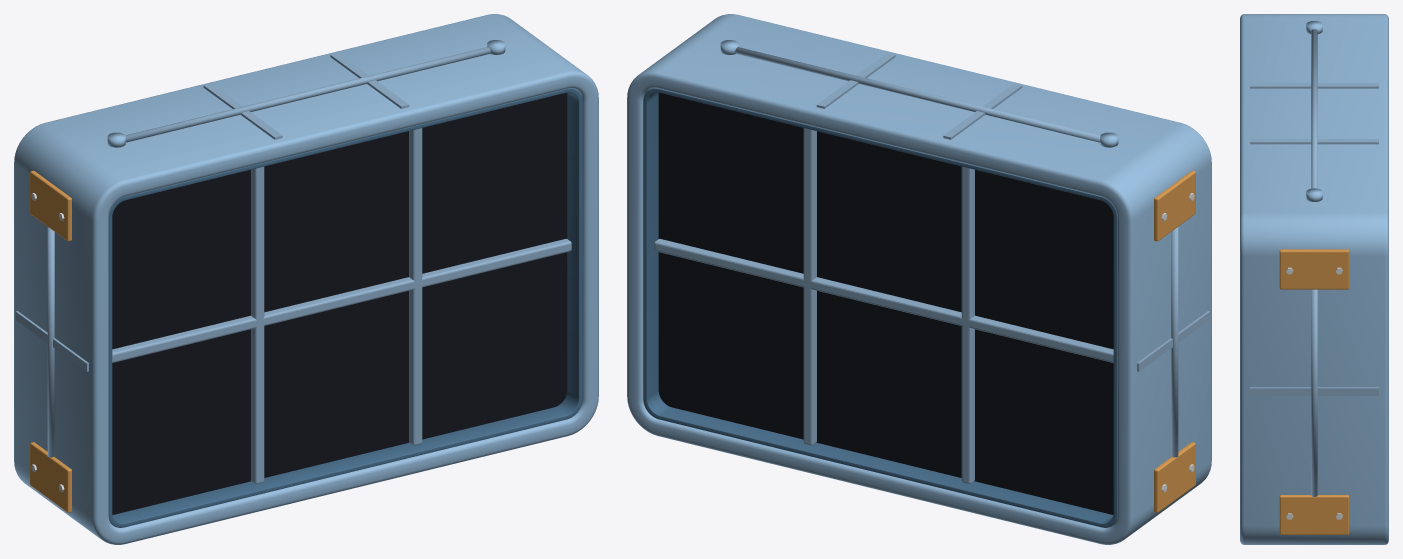
Rendered from bomb_casing.glb.
The picture shows the model from 3 angles, left to right: view 1: azimuth 30°, elevation 25°; view 2: azimuth 150°, elevation 25°; view 3: azimuth 270°, elevation 25°; orthographic projection. The views are drawn at different scales.
Parts seen in each view (by area): view 1: casing_floor, casing_rim, casing_bar, casing_inner, casing_latch; view 2: casing_floor, casing_rim, casing_bar, casing_inner, casing_latch; view 3: casing_rim, casing_latch, casing_bar.
Part boxes in pixels (<box>): casing_floor: <box>112,93,567,514</box>; casing_rim: <box>14,14,598,544</box>; casing_bar: <box>15,47,571,484</box>; casing_inner: <box>108,88,582,527</box>; casing_latch: <box>30,170,71,512</box>; casing_floor: <box>658,93,1113,514</box>; casing_rim: <box>627,14,1211,544</box>; casing_bar: <box>654,47,1210,484</box>; casing_inner: <box>643,88,1117,527</box>; casing_latch: <box>1154,170,1195,512</box>; casing_rim: <box>1240,14,1388,544</box>; casing_latch: <box>1279,249,1349,534</box>; casing_bar: <box>1250,29,1378,496</box>.
Bounding box in the file's own units: 3.28 × 2.29 × 0.9.
